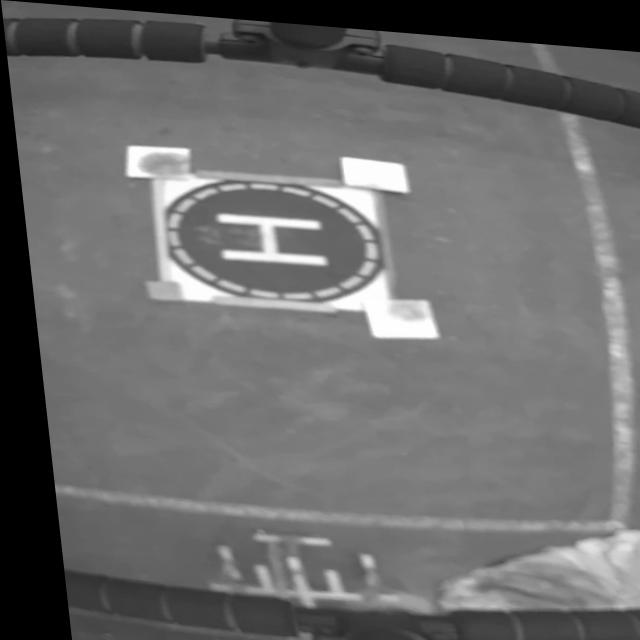Helipad: (208, 209, 321, 262)
